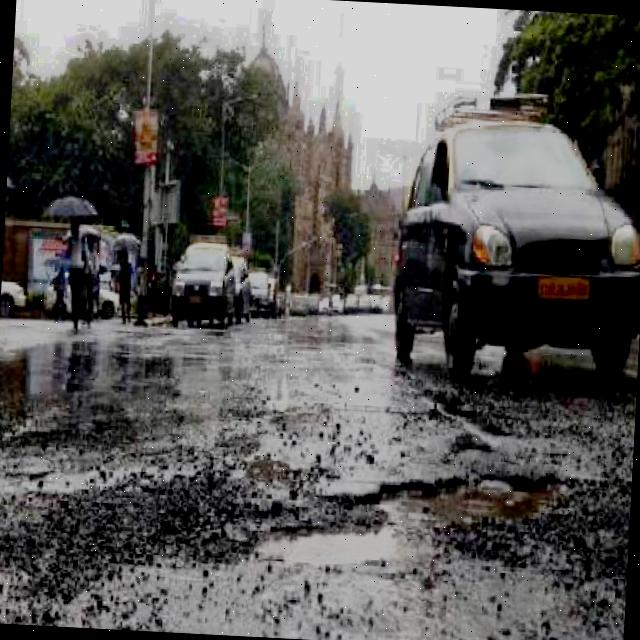pothole: (338, 459, 583, 542), (232, 502, 414, 577), (416, 380, 518, 444)
